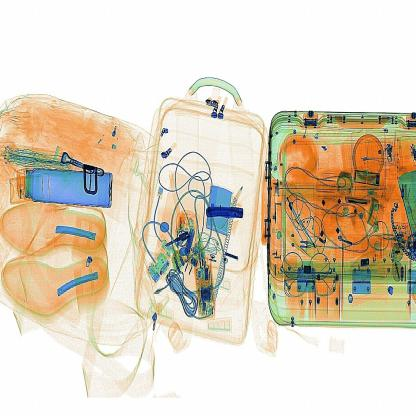knife: (204, 201, 249, 222)
